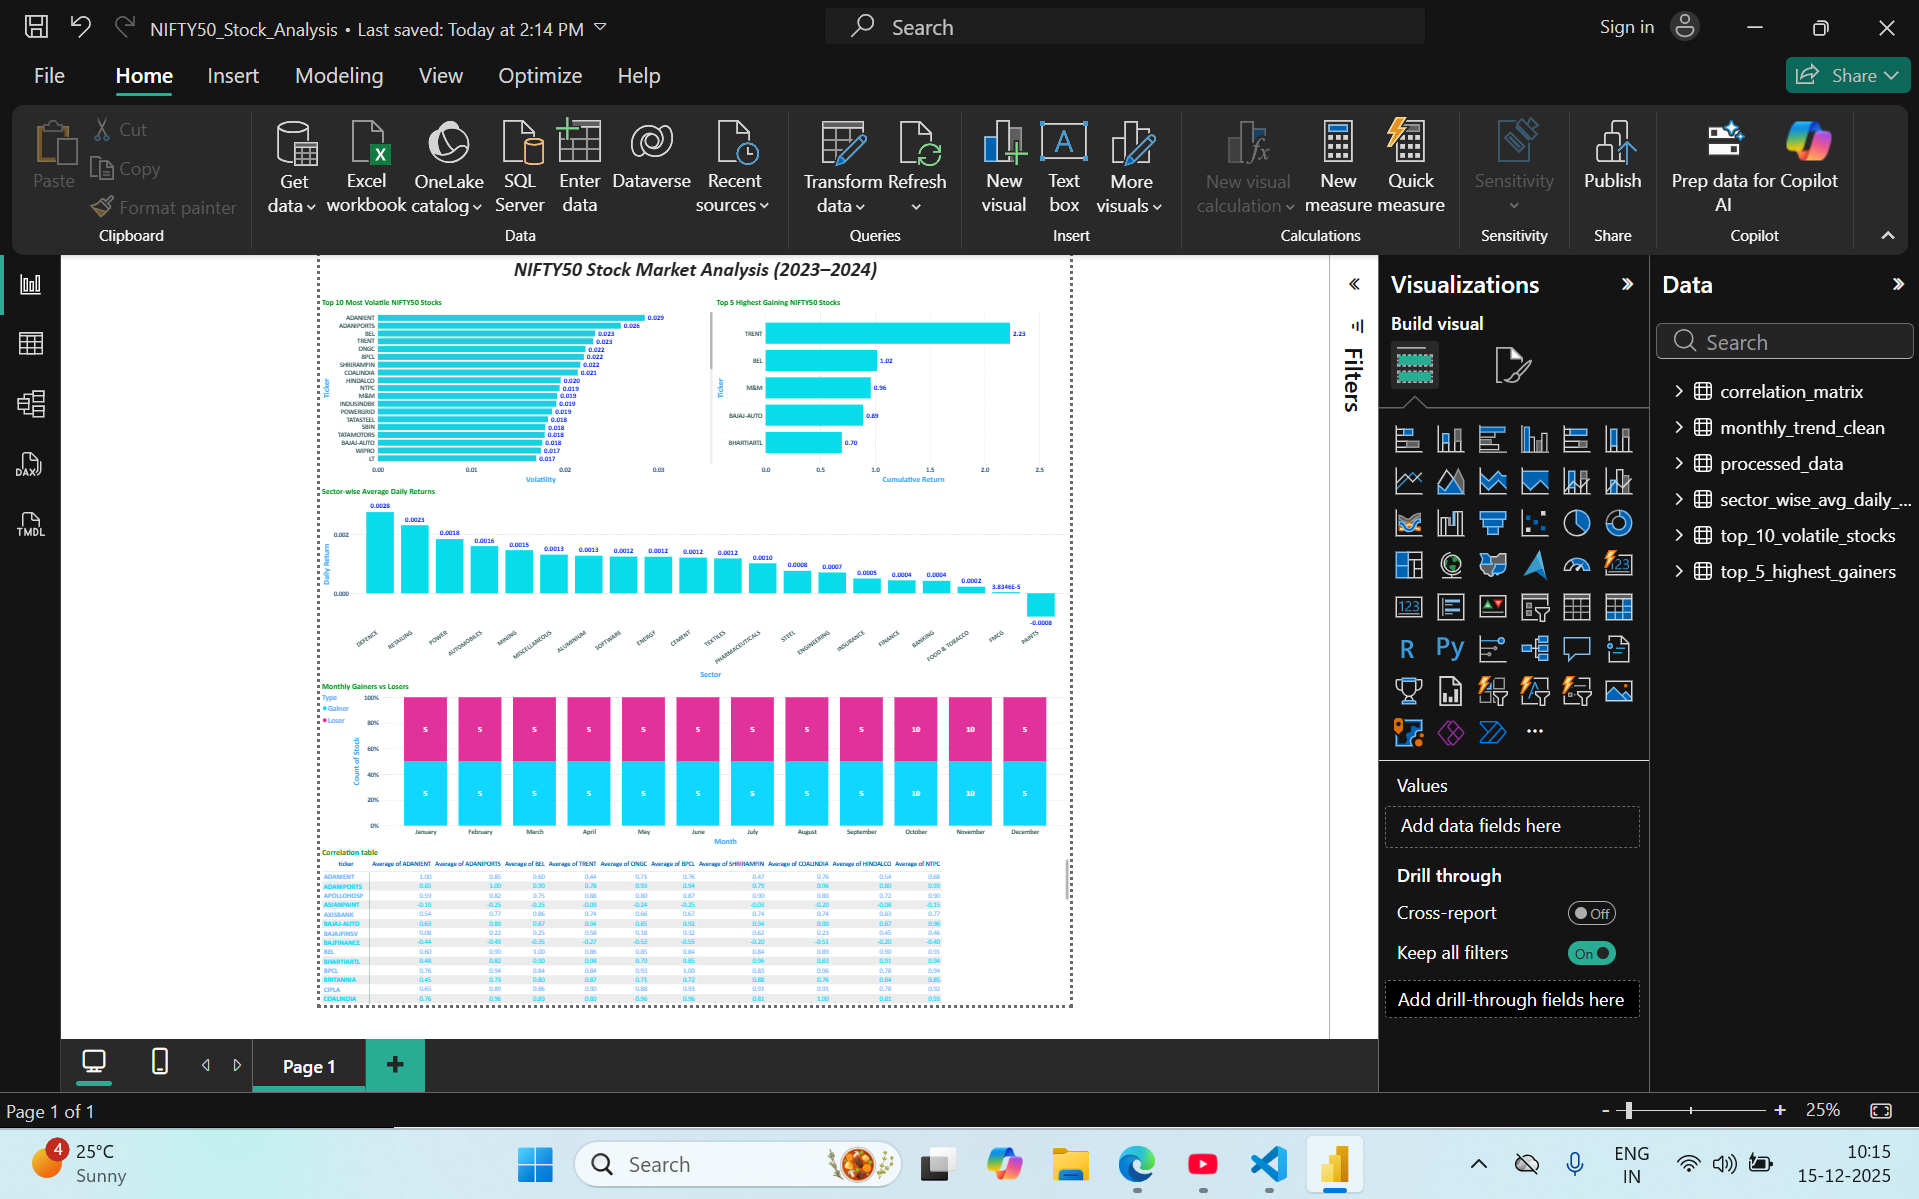

The dashboard page shown, as its layout file describes it:
{"tool":"powerbi","page":{"name":"Page 1","canvas":[2000,2000],"ordinal":0},"visuals":[{"type":"clusteredBarChart","title":"Top 10 Most Volatile NIFTY50 Stocks ","fields":{"Category":["top_10_volatile_stocks.Ticker"],"Y":["Avg(top_10_volatile_stocks.Volatility)"]},"box":[0,110.2,1052.4,504.9],"z":0},{"type":"clusteredBarChart","title":"Top 5 Highest Gaining NIFTY50 Stocks ","fields":{"Category":["top_5_highest_gainers.ticker"],"Y":["Sum(top_5_highest_gainers.cumulative_return)"]},"box":[1052.4,110.2,942.2,504.9],"z":1},{"type":"clusteredColumnChart","title":"Sector-wise Average Daily Returns ","fields":{"Category":["sector_wise_avg_daily_return.Sector"],"Y":["Avg(sector_wise_avg_daily_return.daily_return)"]},"box":[0,615.1,2001.8,519.1],"z":2},{"type":"hundredPercentStackedColumnChart","title":"Monthly Gainers vs Losers ","fields":{"Category":["monthly_trend_clean.month.Variation.Date Hierarchy.Month"],"Y":["CountNonNull(monthly_trend_clean.stock)"],"Series":["monthly_trend_clean.type"]},"box":[0,1134.2,2001.8,444.4],"z":3},{"type":"pivotTable","title":"Correlation table","fields":{"Rows":["correlation_matrix.ticker"],"Columns":["correlation_matrix.ticker"],"Values":["Avg(correlation_matrix.ADANIENT)","Avg(correlation_matrix.ADANIPORTS)","Avg(correlation_matrix.BEL)","Avg(correlation_matrix.TRENT)","Avg(correlation_matrix.ONGC)","Avg(correlation_matrix.BPCL)","Avg(correlation_matrix.SHRIRAMFIN)","Avg(correlation_matrix.COALINDIA)","Avg(correlation_matrix.HINDALCO)","Avg(correlation_matrix.NTPC)"]},"box":[0,1578.7,2001.8,423.1],"z":4},{"type":"textbox","box":[0,0,2001.8,110.2],"z":5}]}

Visuals, with their boxes on the page's 2000x2000 design canvas (x1, y1, x2, y2). These are canvas units, not pixel positions in the 1919x1199 screenshot, which may show the page scaled, cropped or inside an application window:
"Top 10 Most Volatile NIFTY50 Stocks " clusteredBarChart: region(0, 110, 1052, 615)
"Top 5 Highest Gaining NIFTY50 Stocks " clusteredBarChart: region(1052, 110, 1995, 615)
"Sector-wise Average Daily Returns " clusteredColumnChart: region(0, 615, 2002, 1134)
"Monthly Gainers vs Losers " hundredPercentStackedColumnChart: region(0, 1134, 2002, 1579)
"Correlation table" pivotTable: region(0, 1579, 2002, 2002)
textbox: region(0, 0, 2002, 110)
